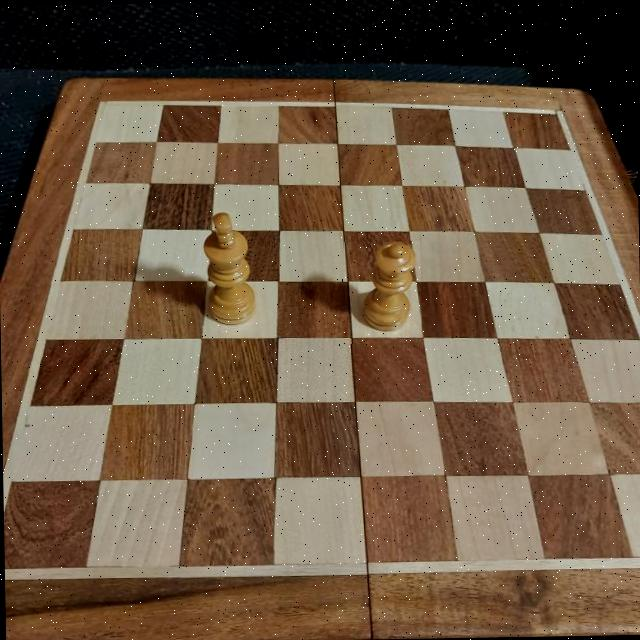white-king: (198, 206, 255, 327)
white-queen: (343, 240, 421, 344)
